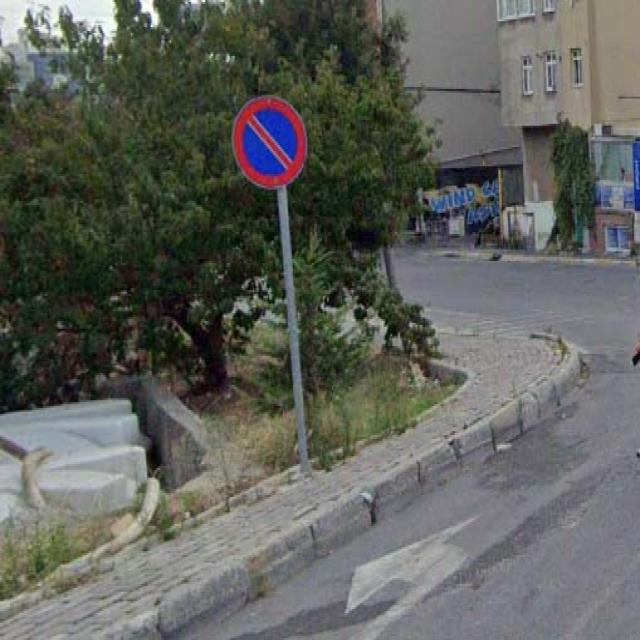parkyasak: (231, 95, 307, 189)
